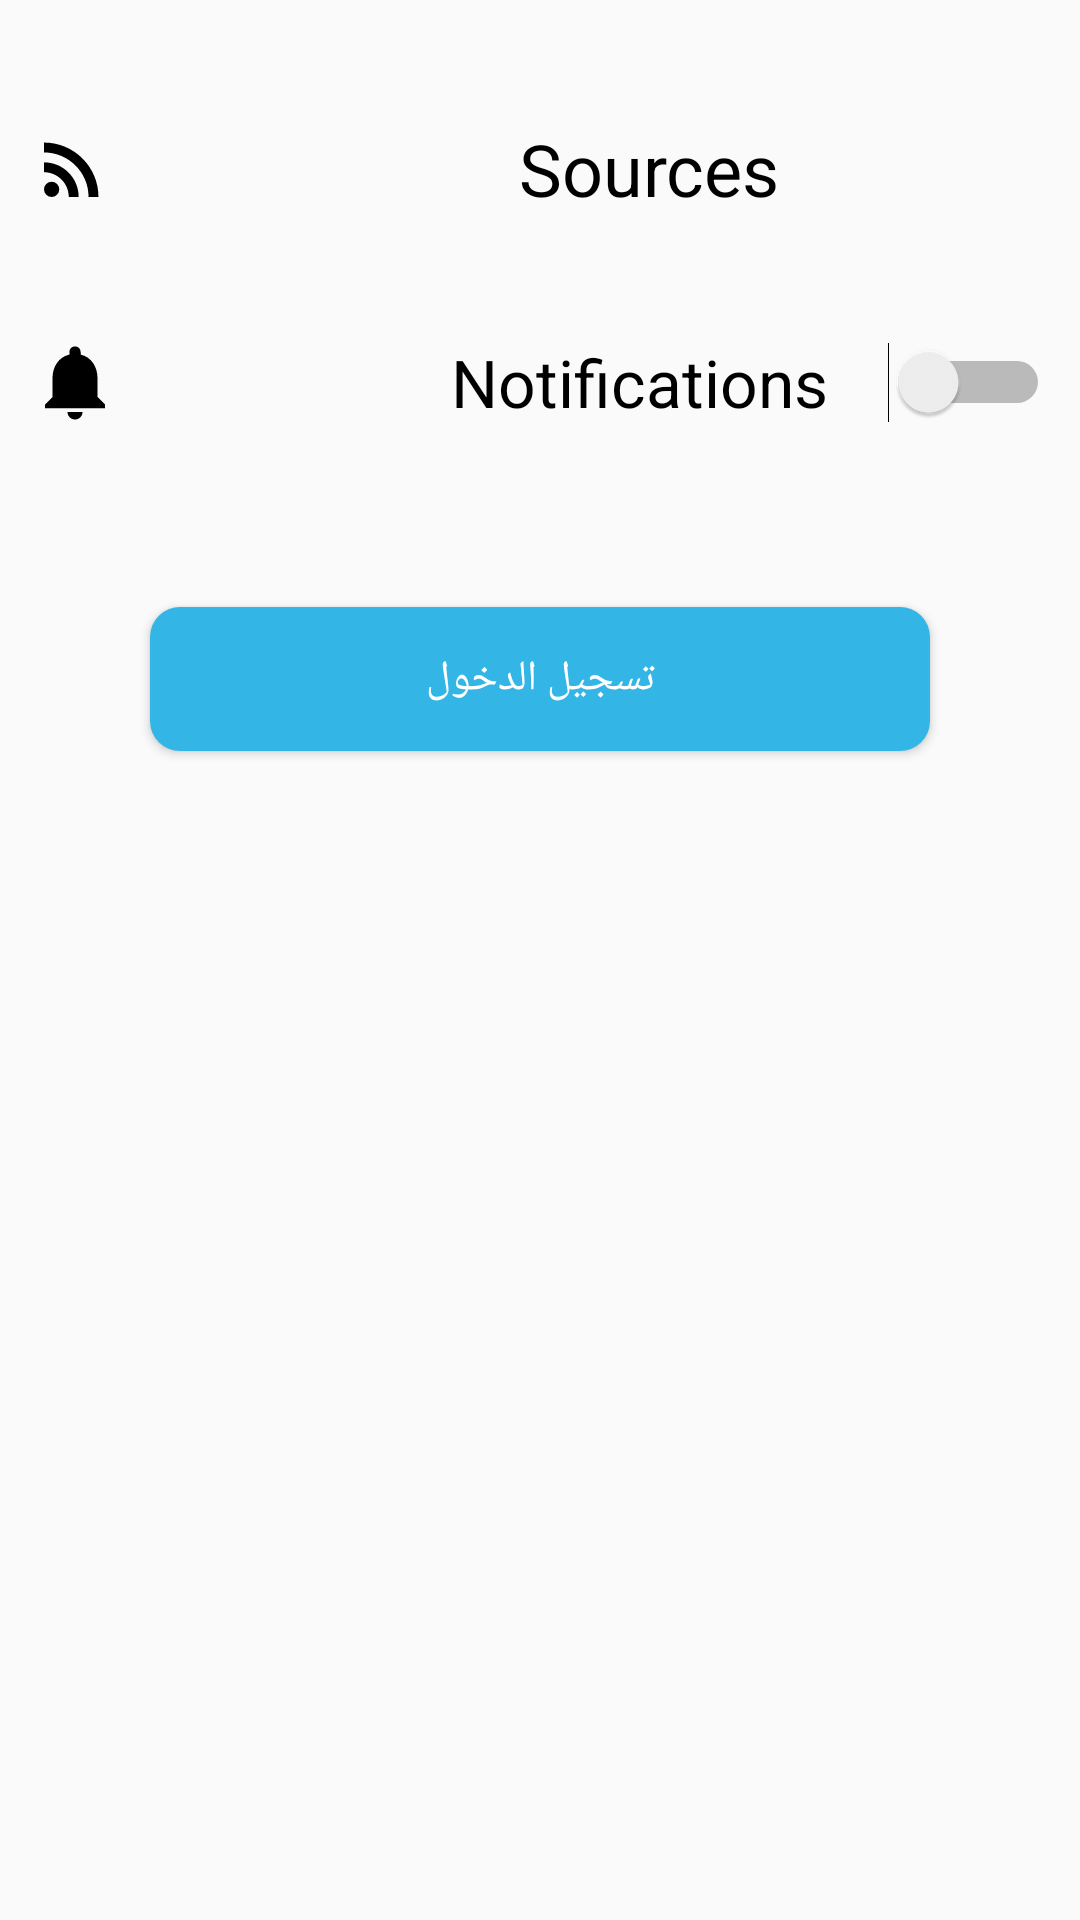

Where to tap for icons on this 1080*1920 app screen, as point (x, y):
notification: point (75, 383)
